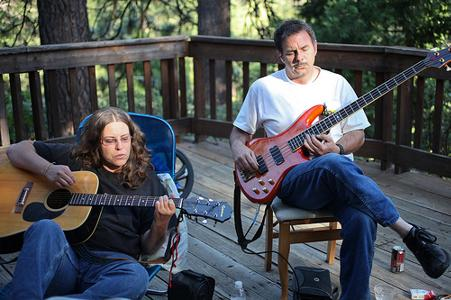person: (7, 107, 176, 300)
